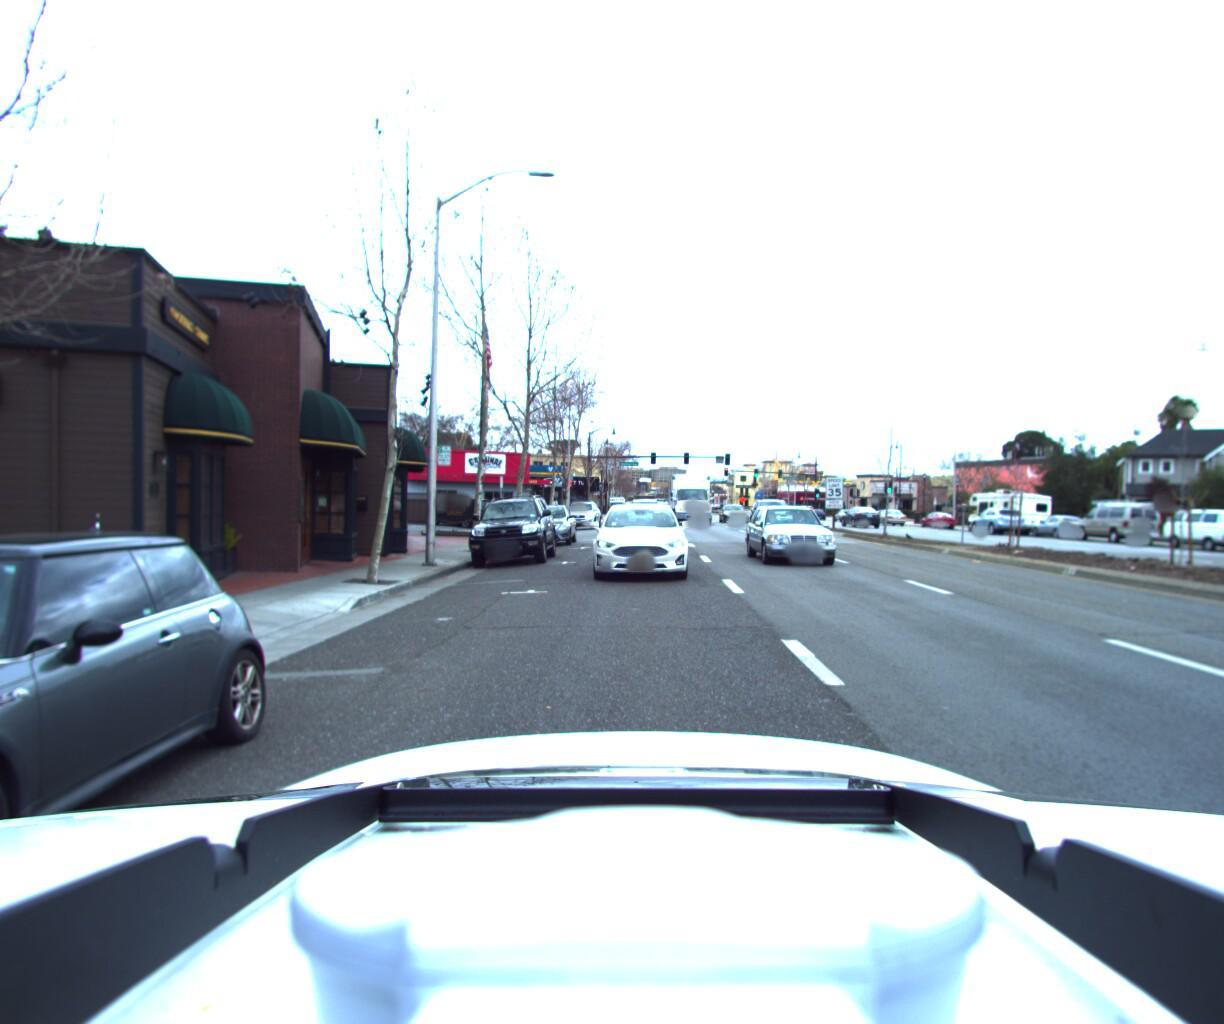car: (580, 505, 683, 596), (738, 508, 850, 585), (463, 500, 552, 576), (1061, 506, 1161, 554), (1142, 513, 1224, 560), (514, 510, 574, 556), (1015, 520, 1088, 548), (959, 514, 1020, 544), (555, 507, 598, 539), (830, 511, 874, 537), (718, 507, 751, 533), (908, 518, 951, 536), (870, 515, 907, 535)
other_vehicle: (953, 494, 1050, 544)
truck: (659, 481, 716, 539)
